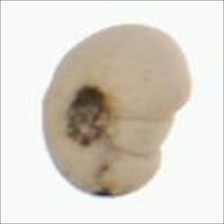L5: (61, 83, 118, 152), (107, 106, 178, 160)
L6: (37, 21, 197, 200)
